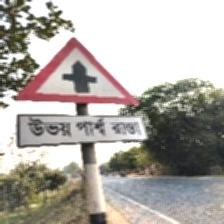Crossroad: (13, 36, 145, 148)
